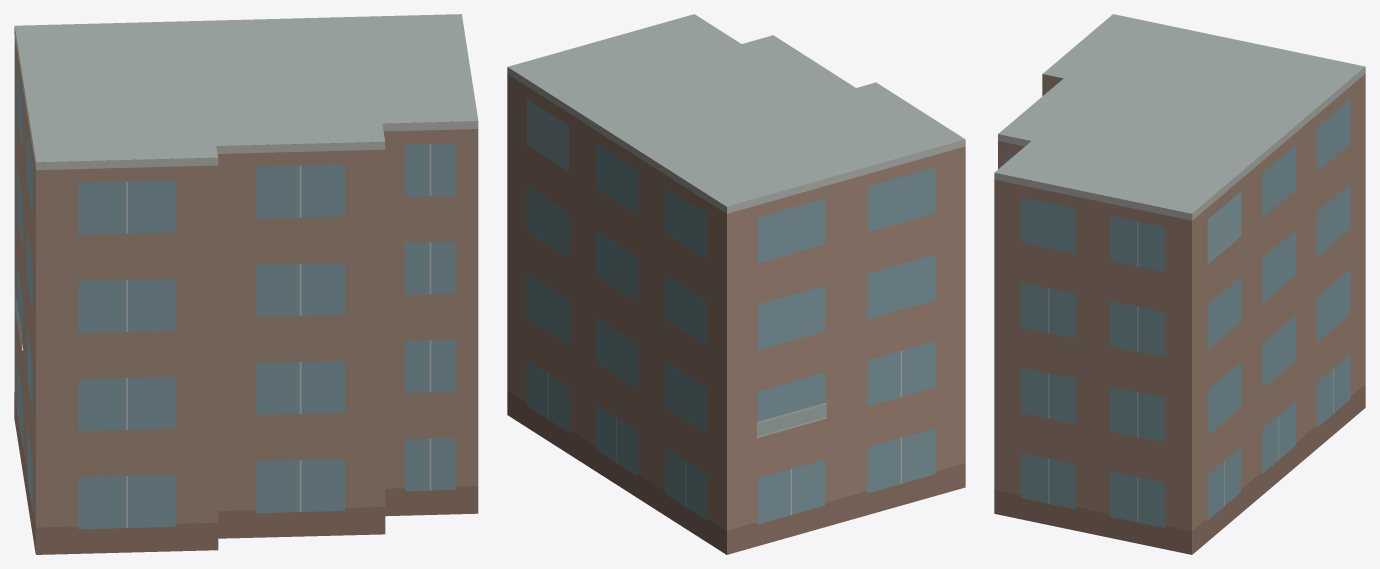
Rendered from survey-upis-33009635.glb.
3 views of the same model, side by side, from view 1: azimuth 30°, elevation 25°; view 2: azimuth 150°, elevation 25°; view 3: azimuth 270°, elevation 25° (orthographic). The views are drawn at different scales.
Parts seen in each view (by area): view 1: survey-upis-33009635.tmp; view 2: survey-upis-33009635.tmp; view 3: survey-upis-33009635.tmp.
Boxes of the visible parts, x1=… form: survey-upis-33009635.tmp: x1=14, y1=14, x2=478, y2=554; survey-upis-33009635.tmp: x1=507, y1=14, x2=965, y2=554; survey-upis-33009635.tmp: x1=994, y1=14, x2=1365, y2=554.
Bounding box in the file's own units: 15.15 × 12.05 × 11.9.
